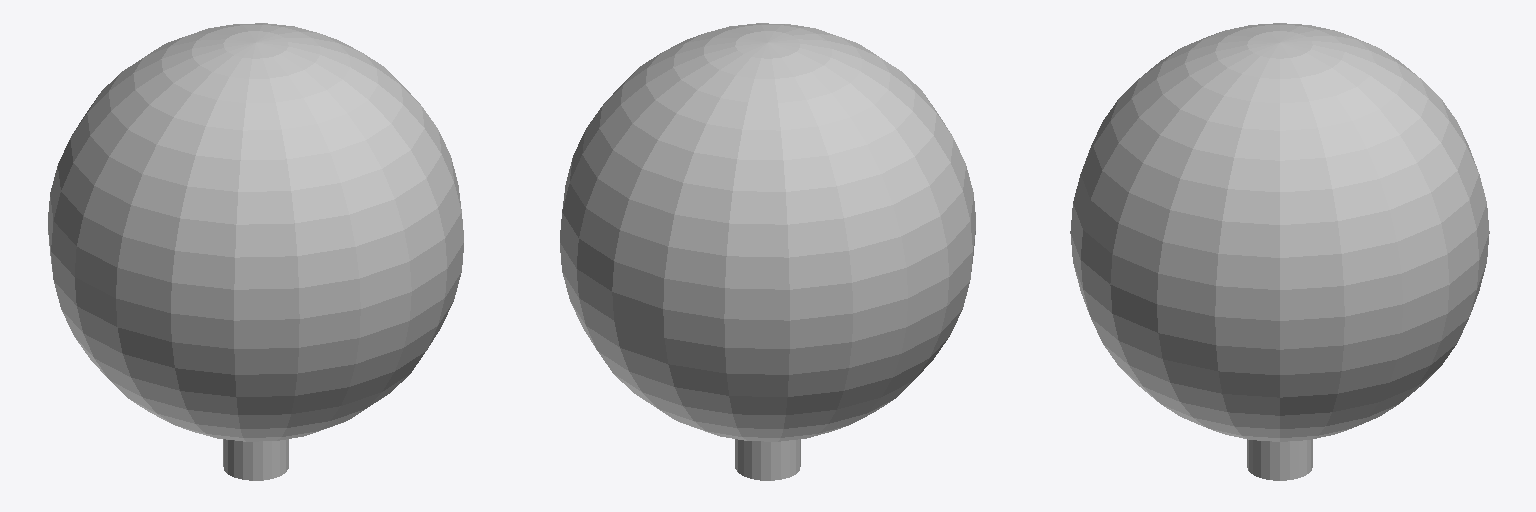
File: man.obj
3 renders of one model, left to right at view 1: azimuth 30°, elevation 25°; view 2: azimuth 150°, elevation 25°; view 3: azimuth 270°, elevation 25°, orthographic.
Parts seen in each view (by area): view 1: stage2:pCylinder1928 stage2:polySurface2015 polySurface50 stage2; view 2: stage2:pCylinder1928 stage2:polySurface2015 polySurface50 stage2; view 3: stage2:pCylinder1928 stage2:polySurface2015 polySurface50 stage2.
Part boxes in pixels (bbox=[...]): stage2:pCylinder1928 stage2:polySurface2015 polySurface50 stage2: bbox=[48, 23, 463, 480]; stage2:pCylinder1928 stage2:polySurface2015 polySurface50 stage2: bbox=[560, 23, 975, 480]; stage2:pCylinder1928 stage2:polySurface2015 polySurface50 stage2: bbox=[1070, 23, 1489, 480].
Size of the model in its own units: 2 by 2.25 by 2.